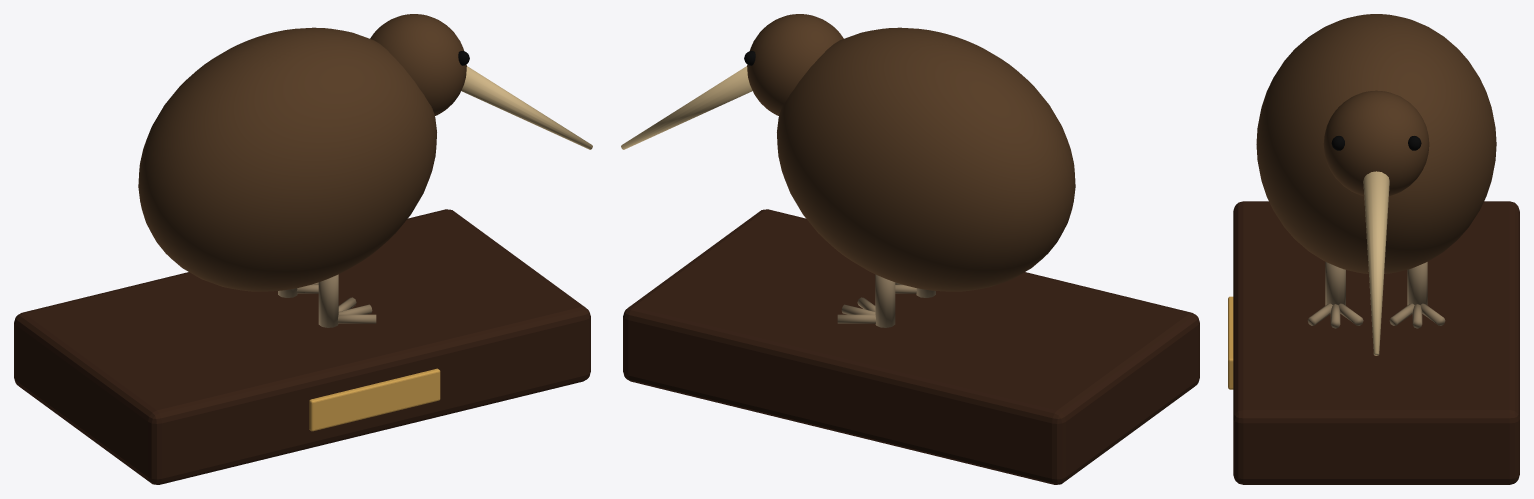
Rendered from kiwi.glb.
3 views of the same model, side by side, from view 1: azimuth 30°, elevation 25°; view 2: azimuth 150°, elevation 25°; view 3: azimuth 270°, elevation 25° (orthographic).
Visible parts, largest first — view 1: plinth, body, head, plate, beak, leg; view 2: plinth, body, head, beak, leg.001; view 3: plinth, body, head, beak, leg.001, leg, plate.
Boxes of the visible parts, <box> form: plinth: <box>14,209,590,484</box>; body: <box>138,27,436,291</box>; head: <box>370,14,466,115</box>; plate: <box>309,368,440,431</box>; beak: <box>461,66,592,149</box>; leg: <box>318,274,338,327</box>; plinth: <box>623,209,1199,484</box>; body: <box>777,27,1075,291</box>; head: <box>747,14,843,115</box>; beak: <box>621,66,752,149</box>; leg.001: <box>875,274,895,327</box>; plinth: <box>1233,201,1519,484</box>; body: <box>1256,14,1496,273</box>; head: <box>1323,90,1429,196</box>; beak: <box>1363,171,1389,355</box>; leg.001: <box>1407,262,1427,305</box>; leg: <box>1325,262,1345,305</box>; plate: <box>1228,296,1233,389</box>.
Bounding box in the file's own units: 1.73 × 1.12 × 0.855.
